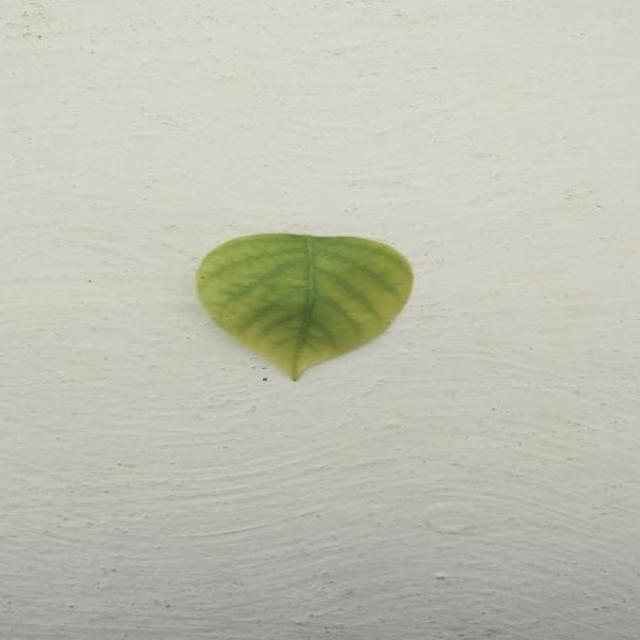leaf: (194, 231, 413, 381)
